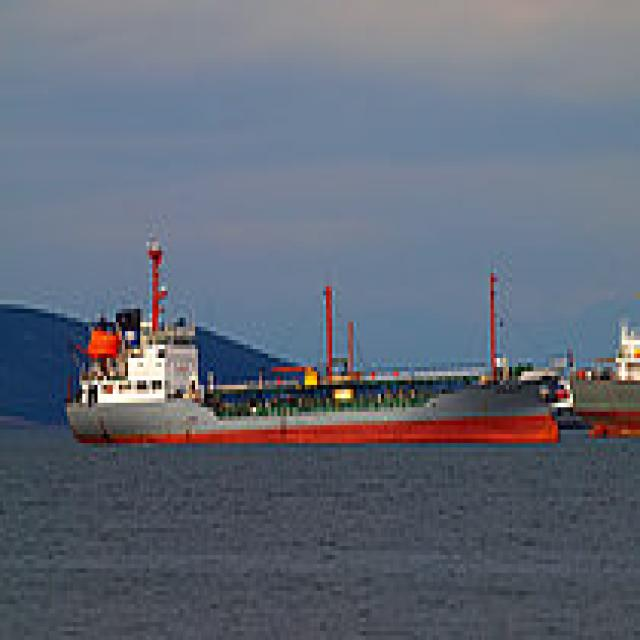Tanker: (61, 232, 561, 448)
